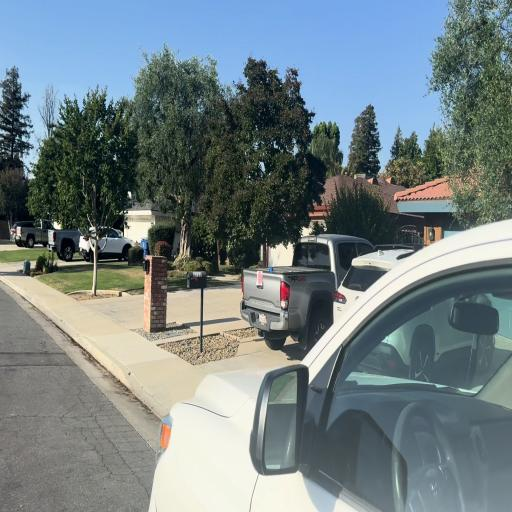bullseye: (257, 271, 263, 286)
